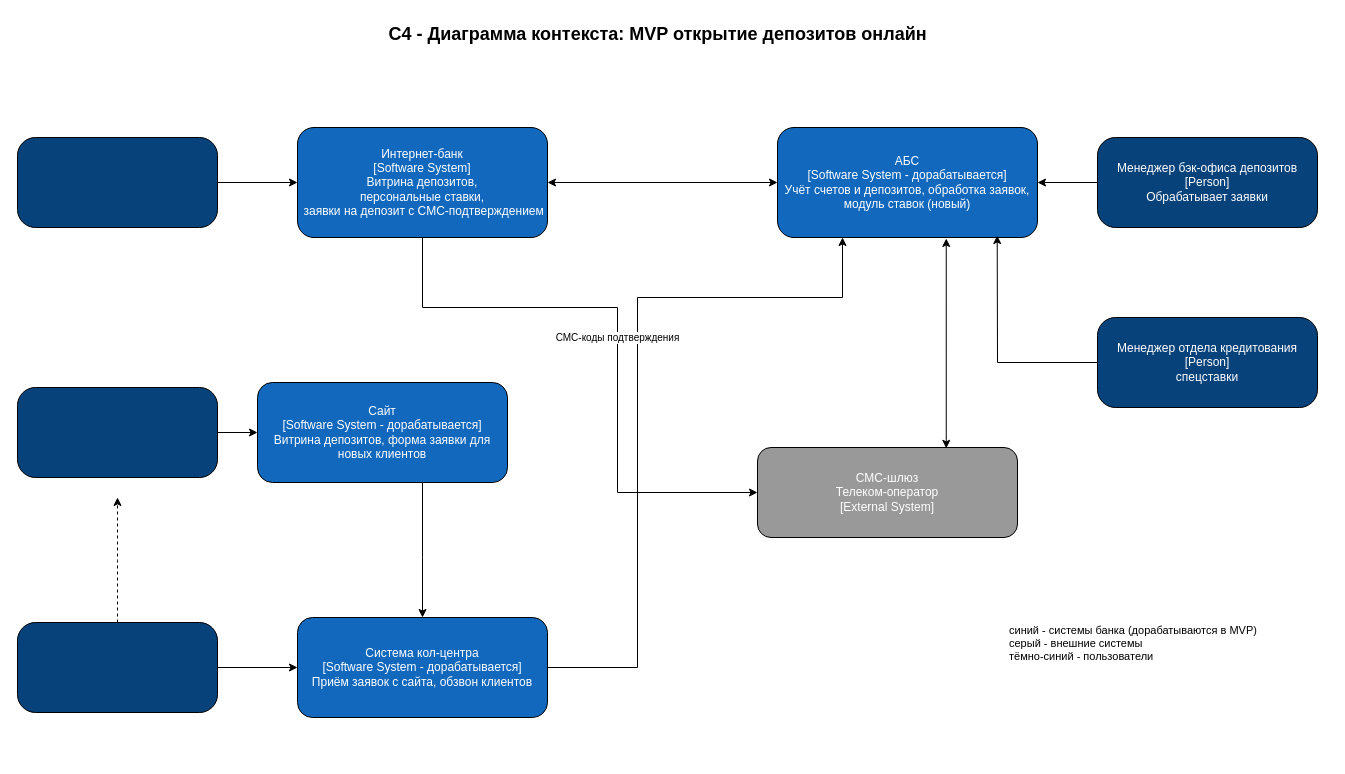
The diagram is 1345 pixels wide and 774 high, and some of its shapes have lost their labels. Each missing label, with the box of its shape:
Клиент банка [Person]: (16, 136, 218, 228)
Новый клиент [Person] не идентифицирован банком: (16, 386, 218, 478)
Оператор кол-центра [Person] Обрабатывает заявки: (16, 622, 218, 712)
